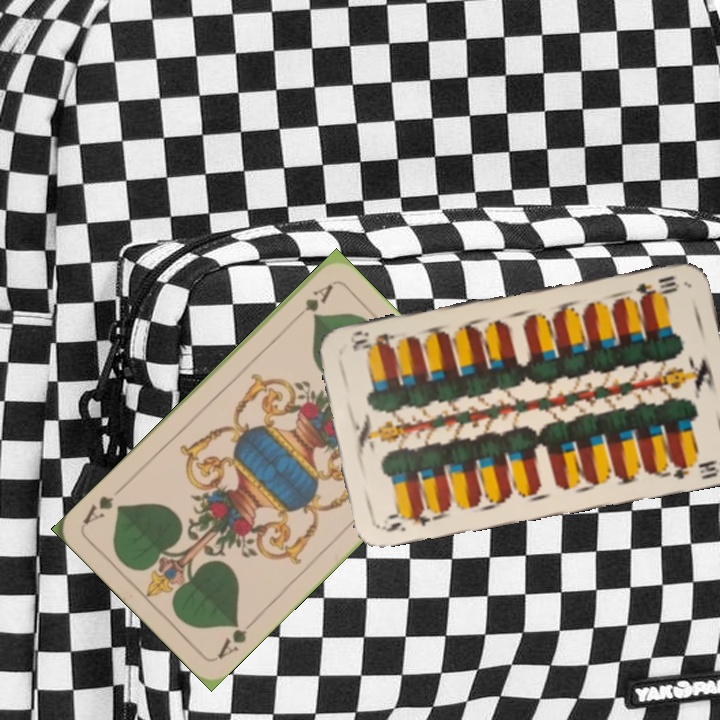E10: (375, 505, 434, 535), (632, 271, 682, 303)
GA: (213, 616, 259, 663), (290, 280, 336, 324)
